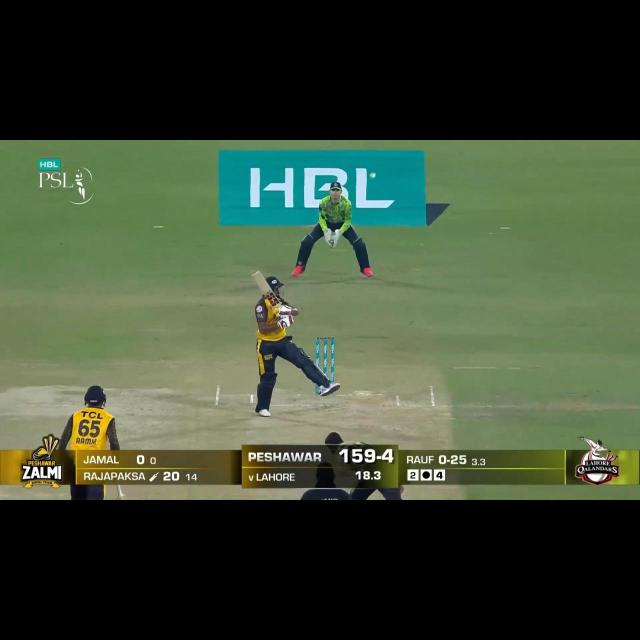bat: (251, 270, 282, 310)
toe: (251, 270, 263, 280)
